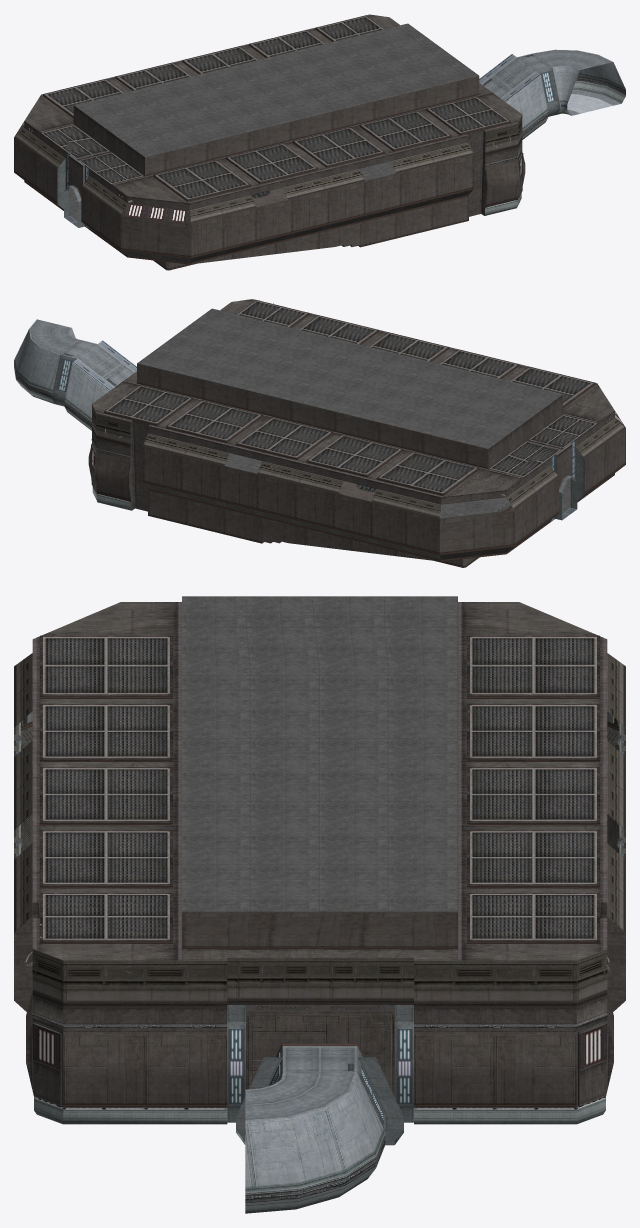
File: thm_newbie_hall_r8_mesh_r8.fbx
The picture shows the model from 3 angles, top to bottom: view 1: azimuth 30°, elevation 25°; view 2: azimuth 150°, elevation 25°; view 3: azimuth 270°, elevation 25°; orthographic projection. The views are drawn at different scales.
Parts seen in each view (by area): view 1: mesh_node; view 2: mesh_node; view 3: mesh_node.
Boxes of the visible parts, x1=… form: mesh_node: x1=14, y1=14, x2=625, y2=270; mesh_node: x1=14, y1=299, x2=625, y2=567; mesh_node: x1=14, y1=596, x2=625, y2=1213.
Size of the model in its own units: 64.55 by 12 by 32.8.
